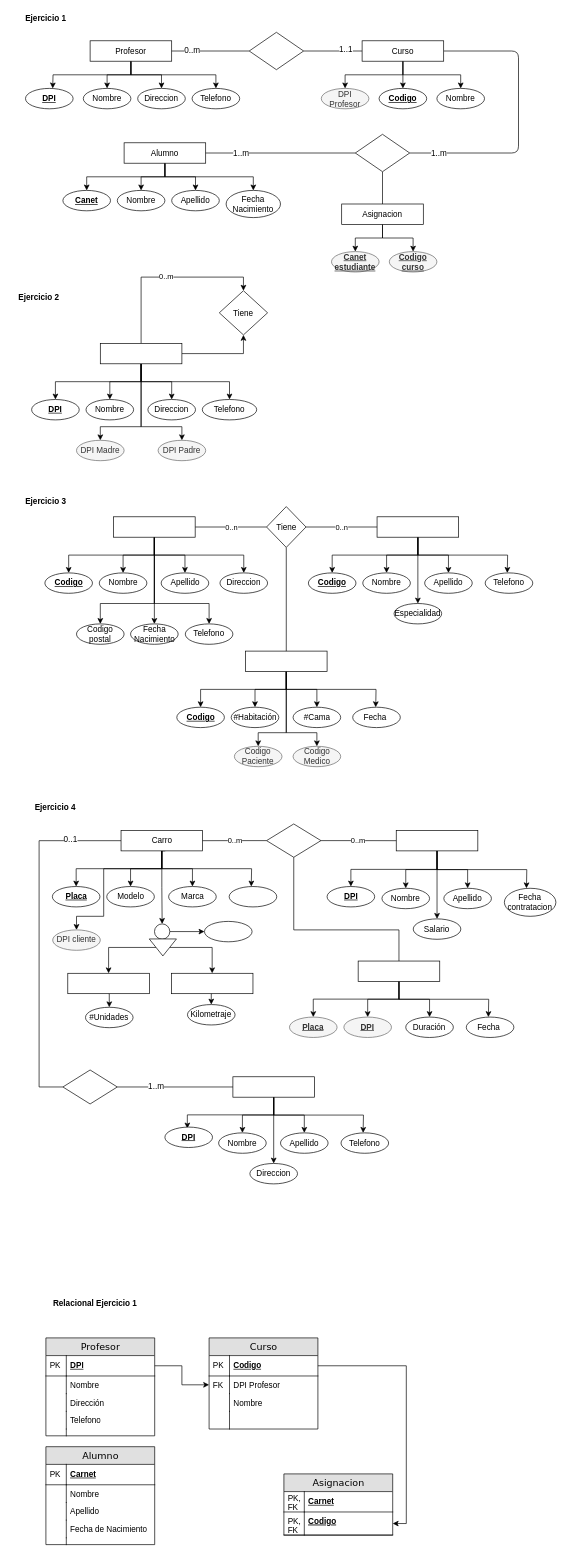
Image size: 568x1557. Some labels were removed from this diagram. The centre of each missing label's shape, as x and y in pixels:
Asigna: the point at 382,153
Cliente: the point at 273,1086
Color: the point at 252,896
Compra: the point at 89,1086
Estado: the point at 228,931
Imparte: the point at 276,51
Ingreso: the point at 286,661
Mecanico: the point at 437,840
Medico: the point at 417,526
Nuevo: the point at 108,983
Paciente: the point at 154,526
Persona: the point at 141,353
Repara: the point at 293,840
Reparacion: the point at 398,970
Usado: the point at 212,983
